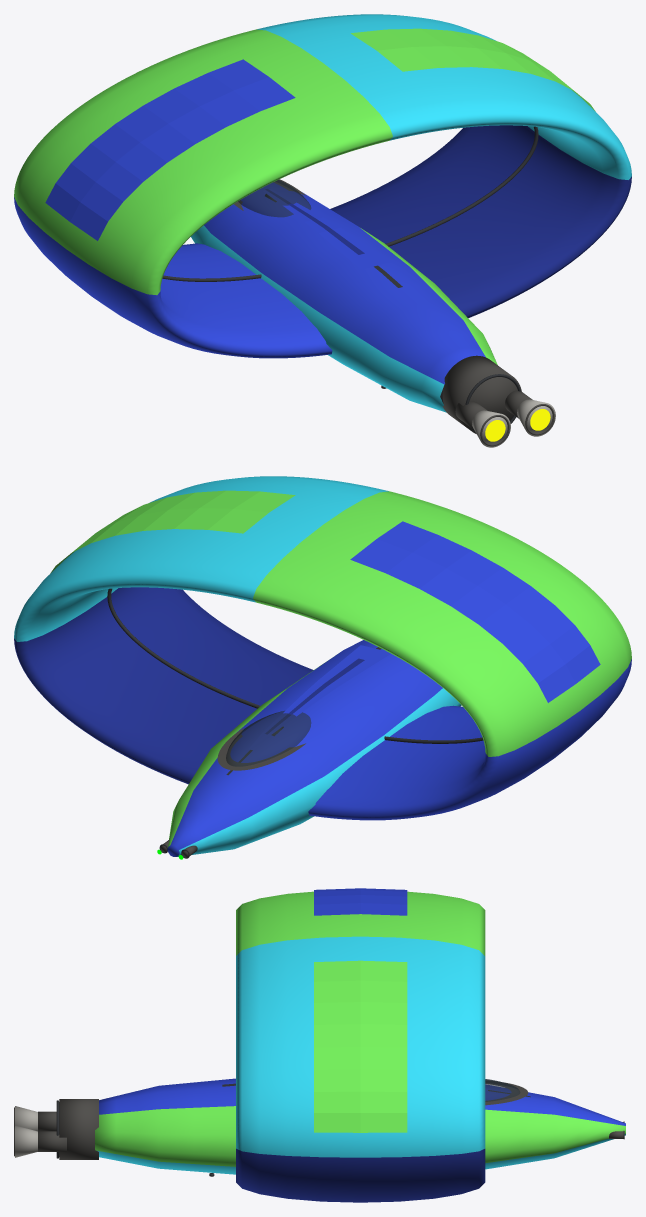
Rendered from Ship_Hooper_302864.glb.
3 renders of one model, top to bottom at view 1: azimuth 30°, elevation 25°; view 2: azimuth 150°, elevation 25°; view 3: azimuth 270°, elevation 25°, orthographic. The views are drawn at different scales.
Visible parts, largest first — view 1: Hoop_MainStructuralRing_YAxisHole_ElongatedY_LowerMidpointAt, Fuselage_MainCenteredHull_CenterOfMassAtOrigin, PaintHoopQuadrant_02_InsetPanel, PaintHoopQuadrant_01_InsetPanel, EngineBlock_AftHullIntegratedMountPlate, PaintFuselage_DorsalPrimaryBlade, CanopyGlass_LowForwardPodDome, Hoop_InnerLip_DarkInsetRing, EngineEmitter, EngineBell_Right_AftHullBurnishedNozzle, EngineBell_Left_AftHullBurnishedNozzle; view 2: Hoop_MainStructuralRing_YAxisHole_ElongatedY_LowerMidpointAt, Fuselage_MainCenteredHull_CenterOfMassAtOrigin, PaintHoopQuadrant_02_InsetPanel, PaintHoopQuadrant_01_InsetPanel, CanopyGlass_LowForwardPodDome, PaintFuselage_DorsalPrimaryBlade, Hoop_InnerLip_DarkInsetRing, CanopyFrame_LowInsetOvalRim; view 3: Hoop_MainStructuralRing_YAxisHole_ElongatedY_LowerMidpointAt, Fuselage_MainCenteredHull_CenterOfMassAtOrigin, PaintHoopQuadrant_01_InsetPanel, PaintHoopQuadrant_02_InsetPanel, EngineBlock_AftHullIntegratedMountPlate, EngineBell_Right_AftHullBurnishedNozzle, CanopyGlass_LowForwardPodDome, EngineThroat_Right_AftHullDarkSocket, CanopyFrame_LowInsetOvalRim, EngineBell_Left_AftHullBurnishedNozzle.
Part boxes in pixels (box(x1,y1,x2,y2)): Hoop_MainStructuralRing_YAxisHole_ElongatedY_LowerMidpointAt: box(14, 14, 631, 358); Fuselage_MainCenteredHull_CenterOfMassAtOrigin: box(191, 182, 497, 412); PaintHoopQuadrant_02_InsetPanel: box(45, 59, 295, 240); PaintHoopQuadrant_01_InsetPanel: box(351, 28, 595, 111); EngineBlock_AftHullIntegratedMountPlate: box(442, 355, 521, 433); PaintFuselage_DorsalPrimaryBlade: box(260, 186, 392, 269); CanopyGlass_LowForwardPodDome: box(238, 179, 311, 217); Hoop_InnerLip_DarkInsetRing: box(162, 126, 538, 281); EngineEmitter: box(485, 409, 550, 441); EngineBell_Right_AftHullBurnishedNozzle: box(517, 399, 555, 436); EngineBell_Left_AftHullBurnishedNozzle: box(472, 410, 510, 447); Hoop_MainStructuralRing_YAxisHole_ElongatedY_LowerMidpointAt: box(14, 476, 631, 820); Fuselage_MainCenteredHull_CenterOfMassAtOrigin: box(167, 640, 461, 856); PaintHoopQuadrant_02_InsetPanel: box(350, 521, 600, 702); PaintHoopQuadrant_01_InsetPanel: box(50, 490, 295, 573); CanopyGlass_LowForwardPodDome: box(226, 711, 311, 766); PaintFuselage_DorsalPrimaryBlade: box(249, 645, 390, 750); Hoop_InnerLip_DarkInsetRing: box(107, 588, 483, 743); CanopyFrame_LowInsetOvalRim: box(217, 728, 305, 770); Hoop_MainStructuralRing_YAxisHole_ElongatedY_LowerMidpointAt: box(236, 891, 485, 1202); Fuselage_MainCenteredHull_CenterOfMassAtOrigin: box(95, 1078, 625, 1174); PaintHoopQuadrant_01_InsetPanel: box(314, 960, 407, 1132); PaintHoopQuadrant_02_InsetPanel: box(314, 888, 407, 915); EngineBlock_AftHullIntegratedMountPlate: box(59, 1099, 98, 1159); EngineBell_Right_AftHullBurnishedNozzle: box(15, 1125, 37, 1157); CanopyGlass_LowForwardPodDome: box(485, 1079, 520, 1101); EngineThroat_Right_AftHullDarkSocket: box(38, 1131, 66, 1151); CanopyFrame_LowInsetOvalRim: box(485, 1081, 528, 1105); EngineBell_Left_AftHullBurnishedNozzle: box(15, 1106, 37, 1131).
Size of the model in its own units: 5.48 by 2.67 by 6.42.
